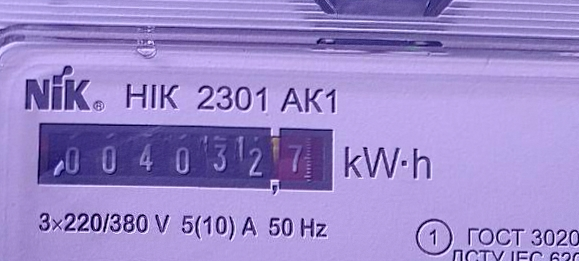0: (98, 142, 118, 175), (62, 142, 81, 175), (172, 143, 191, 176)
2: (246, 144, 264, 178)
3: (210, 141, 228, 173)
4: (135, 139, 155, 176)
7: (287, 141, 304, 174)
screen: (27, 114, 341, 202)
